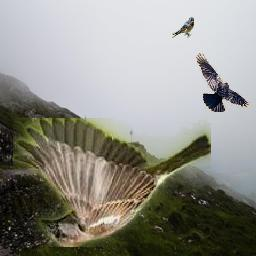Crow: (196, 50, 251, 112)
Sparrow: (13, 119, 211, 248)
Swallow: (172, 18, 195, 39)
